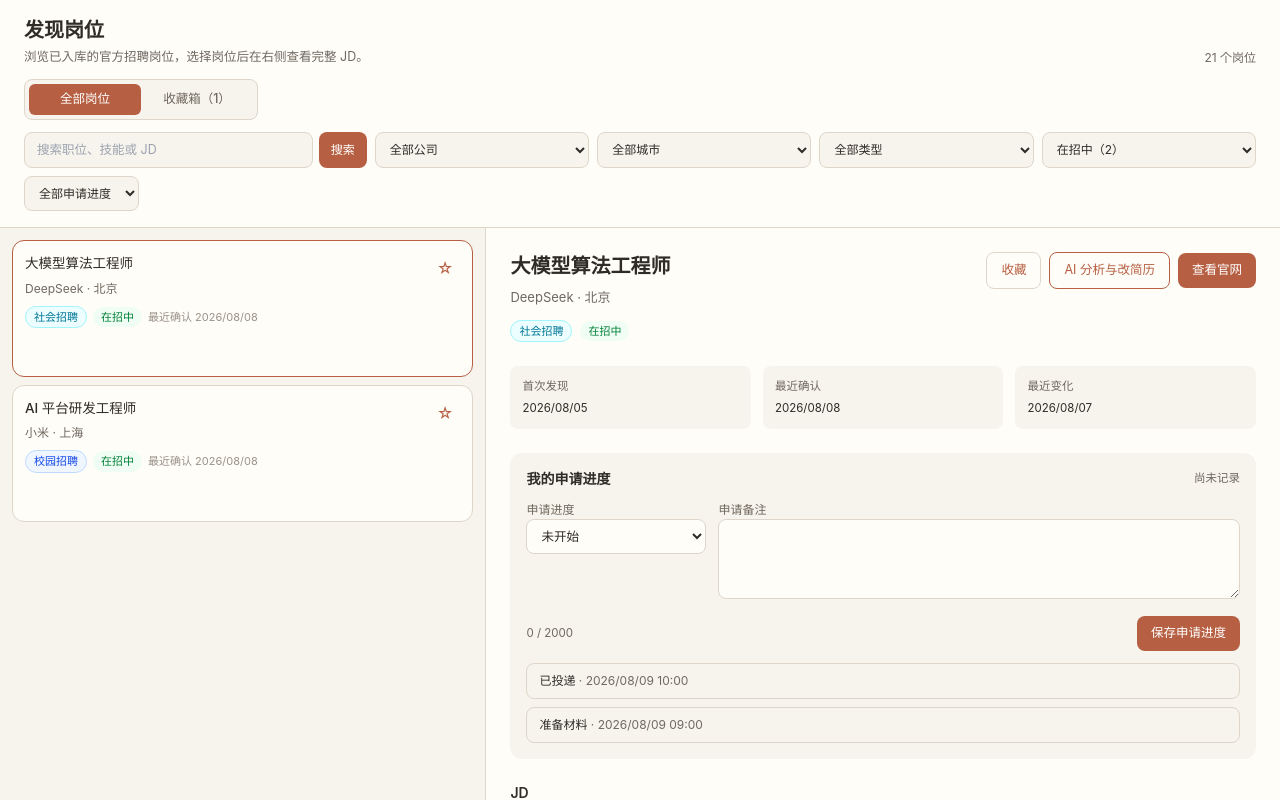
Test case: CareerJobsView › refreshes the operated job after a favorite version conflict
Expected: the heading "JD" is shown, [510,784,529,799]
What coordinates should you click on to do the following:
click the button named "收藏岗位：AI 平台研发工程师"
I would click on:
 (445, 413)
Its box is [429,397,461,429].
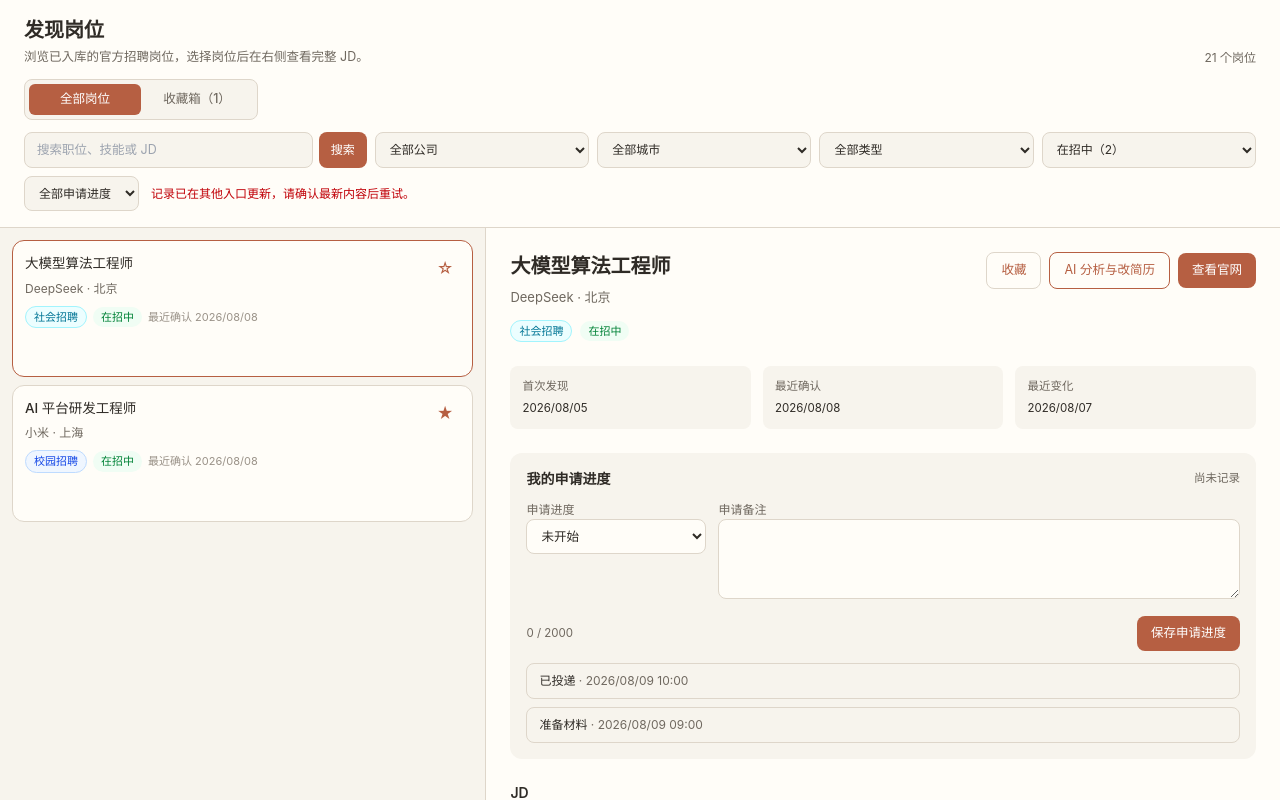
Expected: the text "记录已在其他入口更新，请确认最新内容后重试。" is shown, [151,185,415,203]
Expected: the button named "取消收藏：AI 平台研发工程师" is shown, [429,397,461,429]
